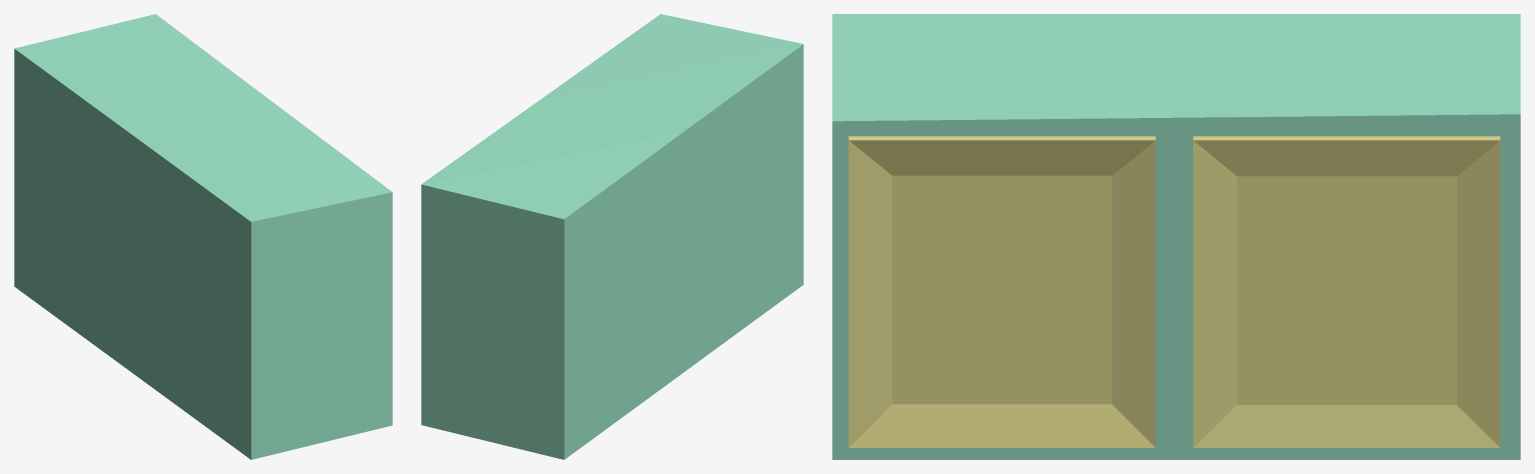
File: Hanging cabinets.fbx
3 views of the same model, side by side, from view 1: azimuth 30°, elevation 25°; view 2: azimuth 150°, elevation 25°; view 3: azimuth 270°, elevation 25° (orthographic). The views are drawn at different scales.
Parts seen in each view (by area): view 1: Counter w shelves; view 2: Counter w shelves; view 3: Counter w shelves, Door, Door.001.
Part boxes in pixels (x1,y1,x2,y2): Counter w shelves: [14, 14, 392, 459]; Counter w shelves: [421, 14, 803, 459]; Counter w shelves: [832, 14, 1520, 459]; Door: [848, 136, 1155, 447]; Door.001: [1193, 136, 1500, 447].
Size of the model in its own units: 49.64 by 76.71 by 138.
